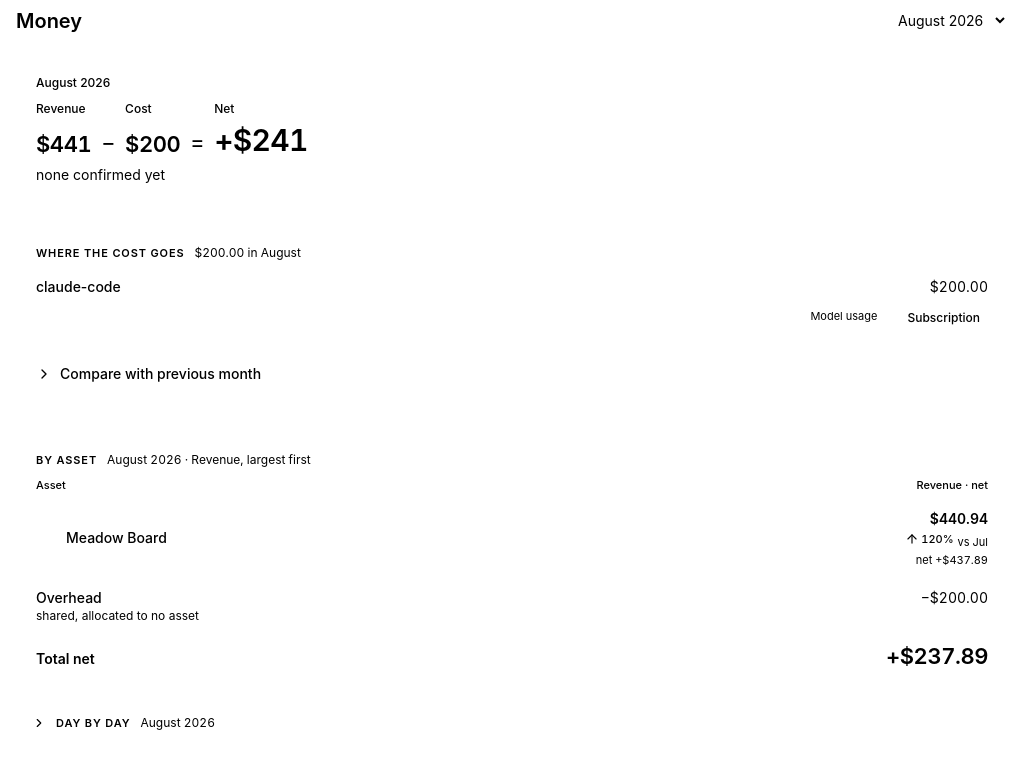
shows daily portfolio coverage before asset contributions and keeps monthly costs outside its bars
What coordinates should you click on to do the following:
click the button "Day by day August 2026"
I would click on:
 (93, 723)
Its box is [16,703,1008,743].
(page scrolled)
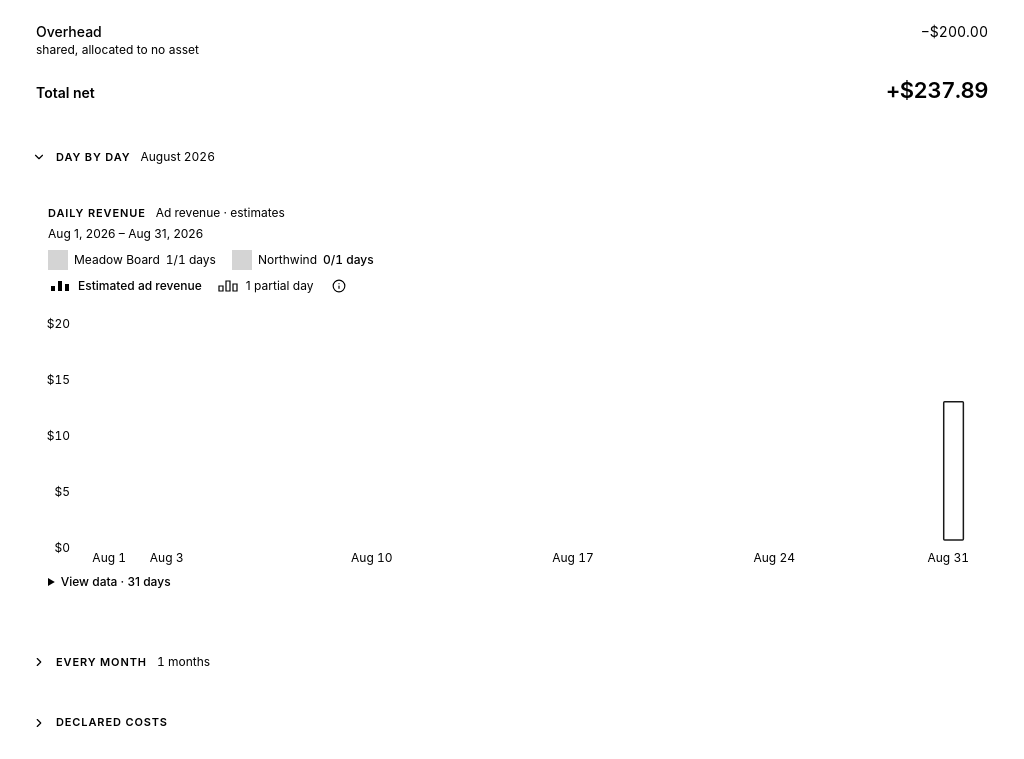
Result: the element "Daily revenue" shows "Aug 1, 2026 – Aug 31, 2026" at [32,193,992,606]
Result: the list item "1 partial day" is shown at [216,278,314,294]
Result: the list item "Northwind 0/1 days" is shown at [232,250,374,274]
